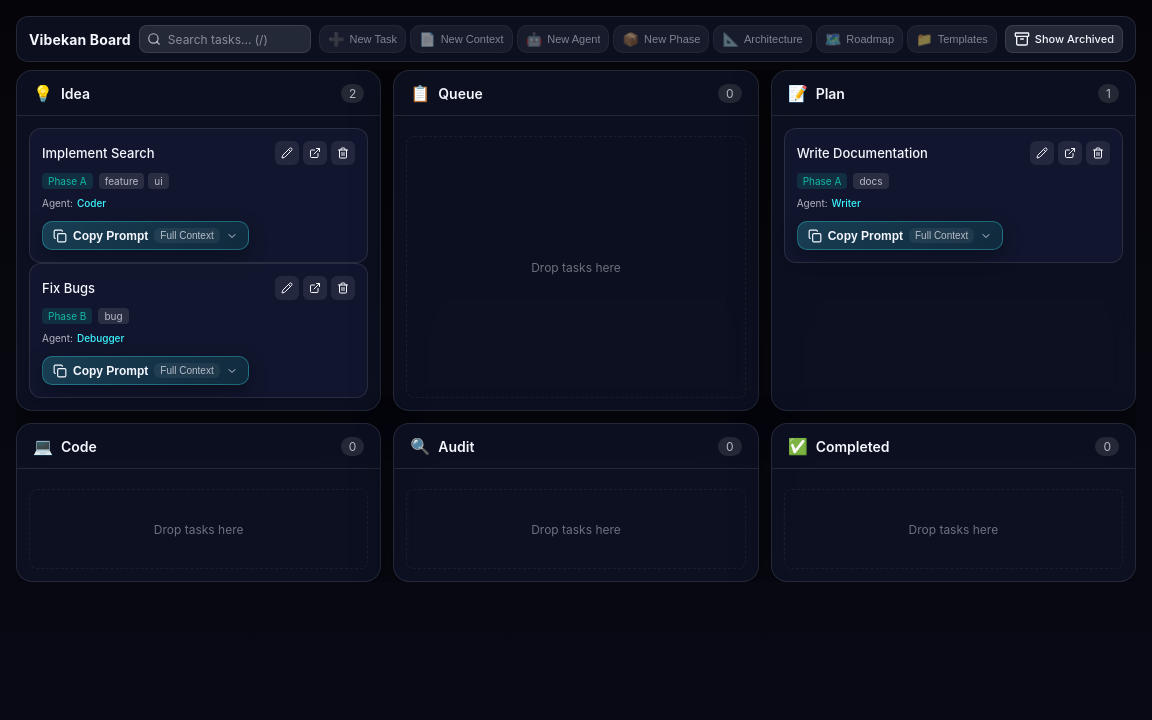
Test: Board Search Bar › filters tasks based on tags
Step 1. Type "bug" into the field with placeholder "Search tasks... (/)" → point(225, 39), box [139,25,311,53]
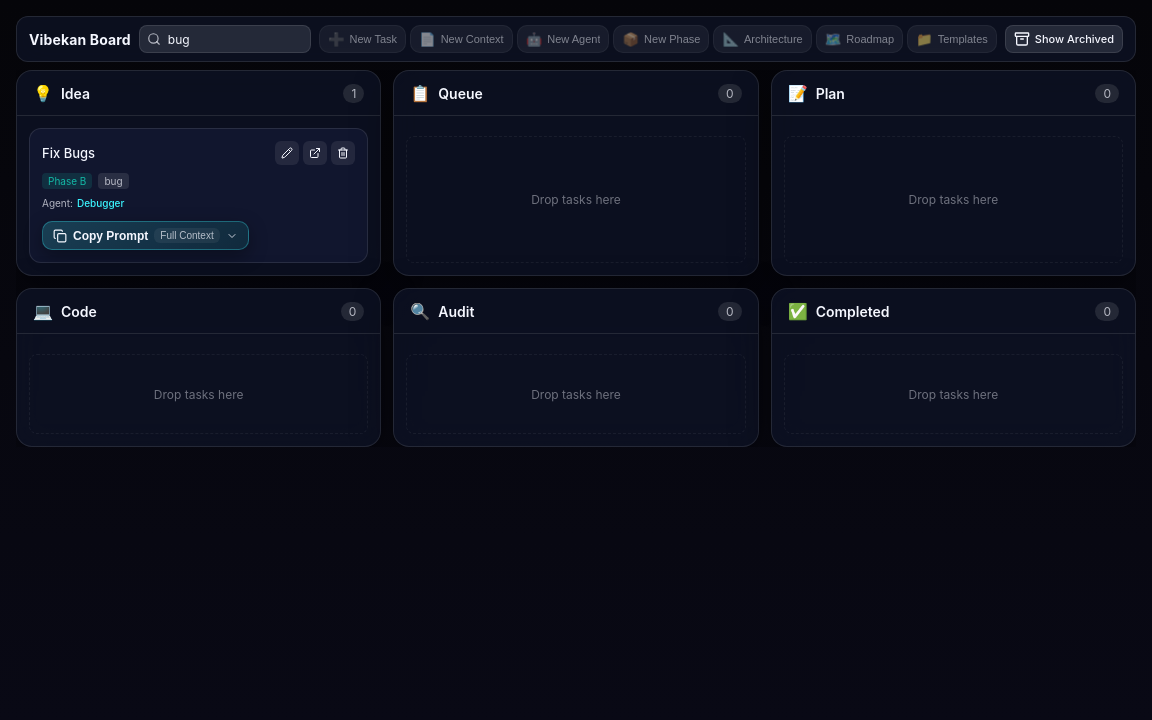
expect the text "Fix Bugs" is shown: met, box [42,145,95,161]
expect the button "Implement Search" is gone: met
expect the button "Write Documentation" is gone: met
